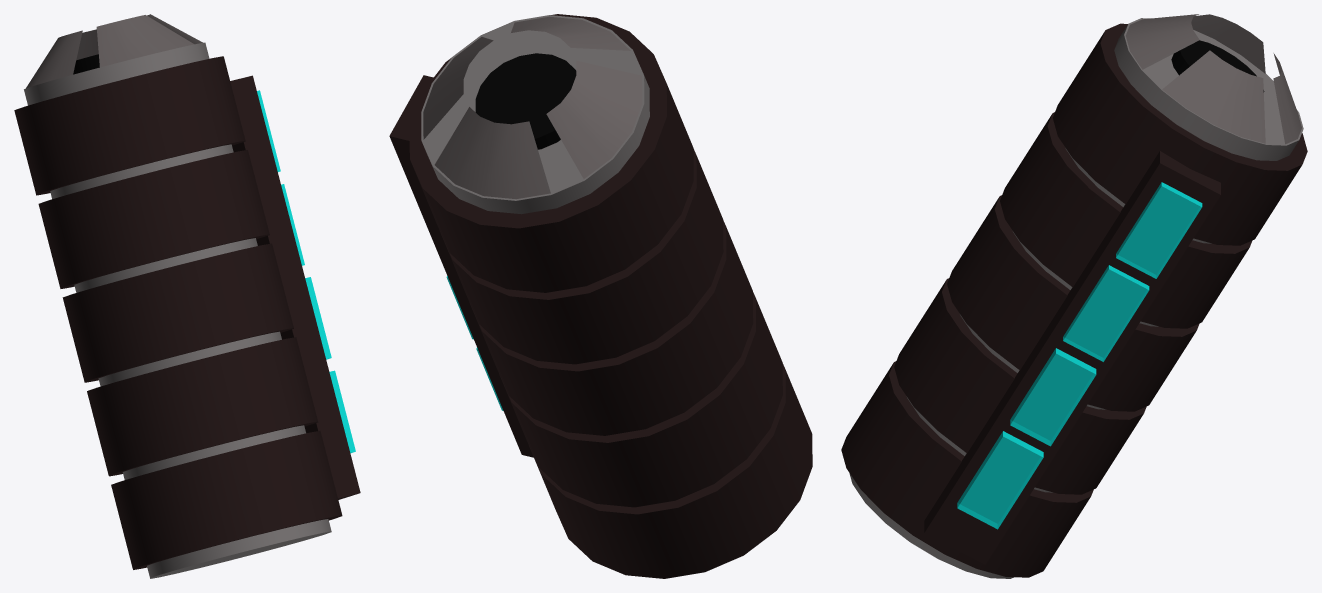
The model's file is ParticleAccelerator.fbx.
The picture shows the model from 3 angles, left to right: view 1: azimuth 30°, elevation 25°; view 2: azimuth 150°, elevation 25°; view 3: azimuth 270°, elevation 25°; orthographic projection. The views are drawn at different scales.
Visible parts, largest first — view 1: pCylinder8; view 2: pCylinder8; view 3: pCylinder8.
Part boxes in pixels (<box>): pCylinder8: <box>14,14,360,578</box>; pCylinder8: <box>389,14,812,578</box>; pCylinder8: <box>841,14,1307,578</box>.
Bounding box in the file's own units: 3.92 × 8.45 × 6.62.
